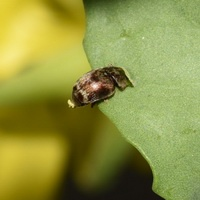insect: (68, 66, 132, 107)
